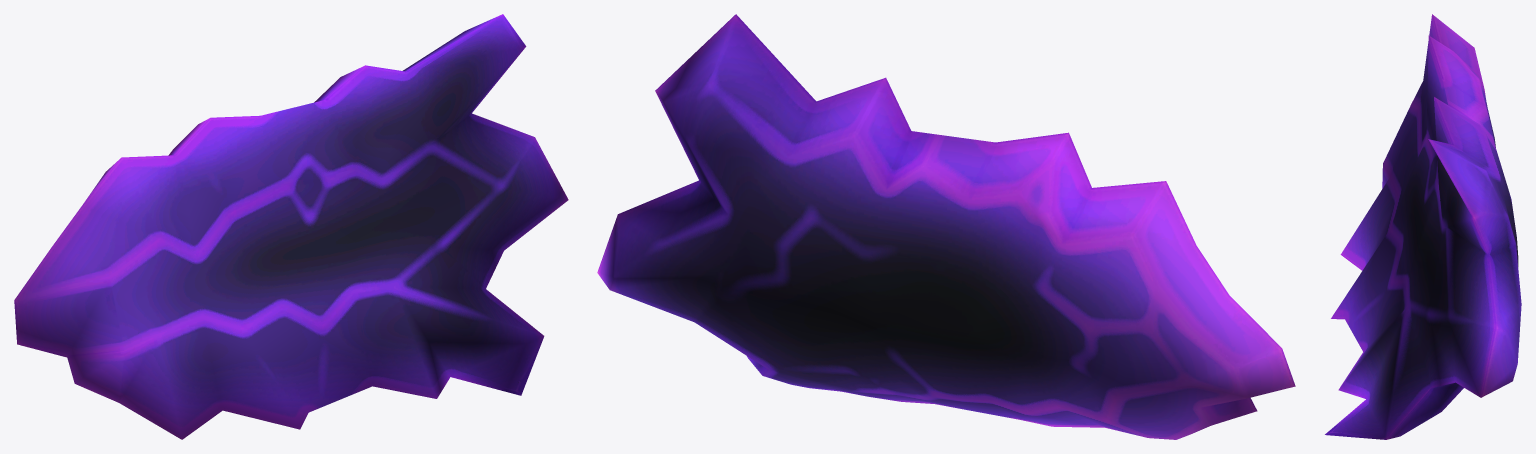
Rendered from item_weazemmgm2501-et01.glb.
The picture shows the model from 3 angles, left to right: view 1: azimuth 30°, elevation 25°; view 2: azimuth 150°, elevation 25°; view 3: azimuth 270°, elevation 25°; orthographic projection. The views are drawn at different scales.
Visible parts, largest first — view 1: FlyffMesh; view 2: FlyffMesh; view 3: FlyffMesh.
Boxes of the visible parts, x1=… form: FlyffMesh: x1=14, y1=14, x2=568, y2=439; FlyffMesh: x1=597, y1=14, x2=1295, y2=439; FlyffMesh: x1=1325, y1=14, x2=1521, y2=439.
Bounding box in the file's own units: 0.4573 × 0.2496 × 0.1425.
1 material, 1 textured.
